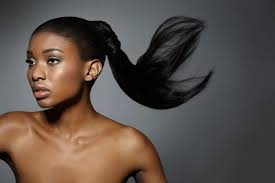person: (25, 15, 106, 109)
